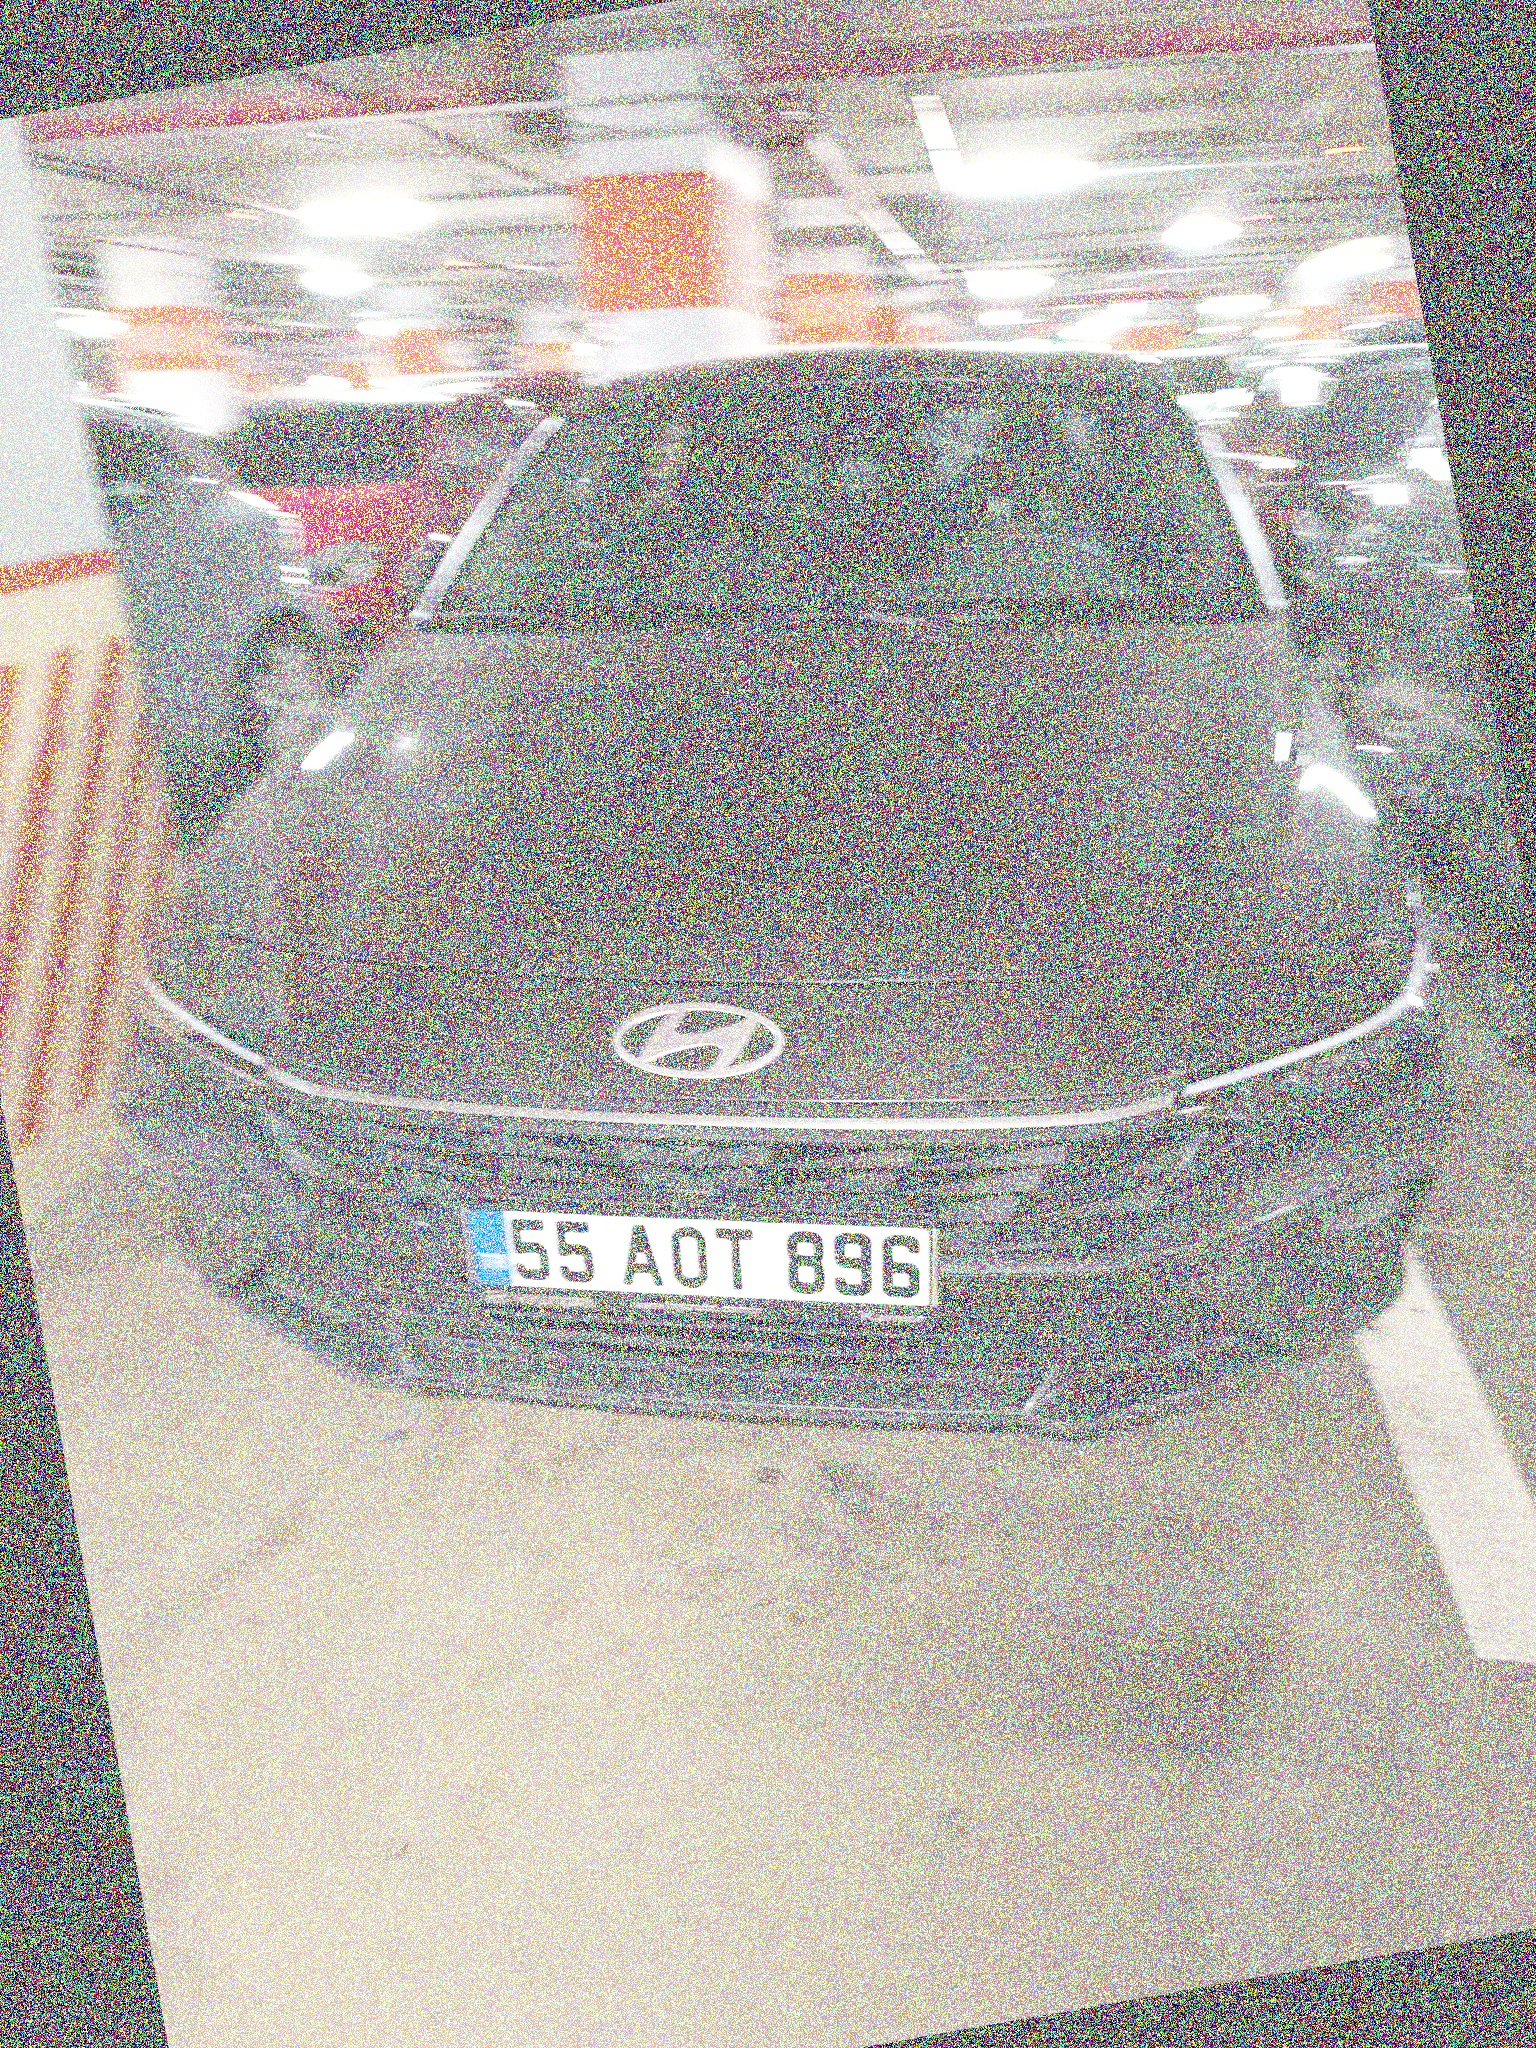plaka: (485, 1173, 942, 1334)
